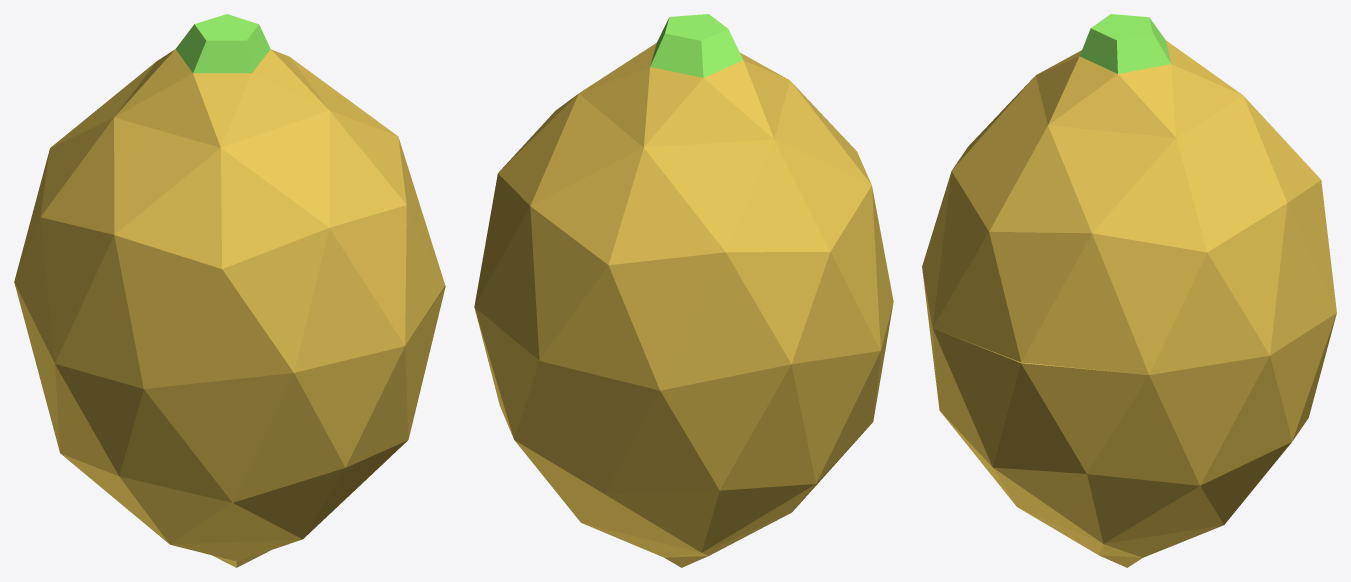
The model's file is lemon.fbx.
3 renders of one model, left to right at view 1: azimuth 30°, elevation 25°; view 2: azimuth 150°, elevation 25°; view 3: azimuth 270°, elevation 25°, orthographic.
Visible parts, largest first — view 1: lemon; view 2: lemon; view 3: lemon.
Part boxes in pixels (x1,y1,x2,y2): lemon: (14, 14, 445, 567); lemon: (474, 14, 893, 567); lemon: (922, 14, 1336, 567).
Size of the model in its own units: 103 by 145 by 102.
